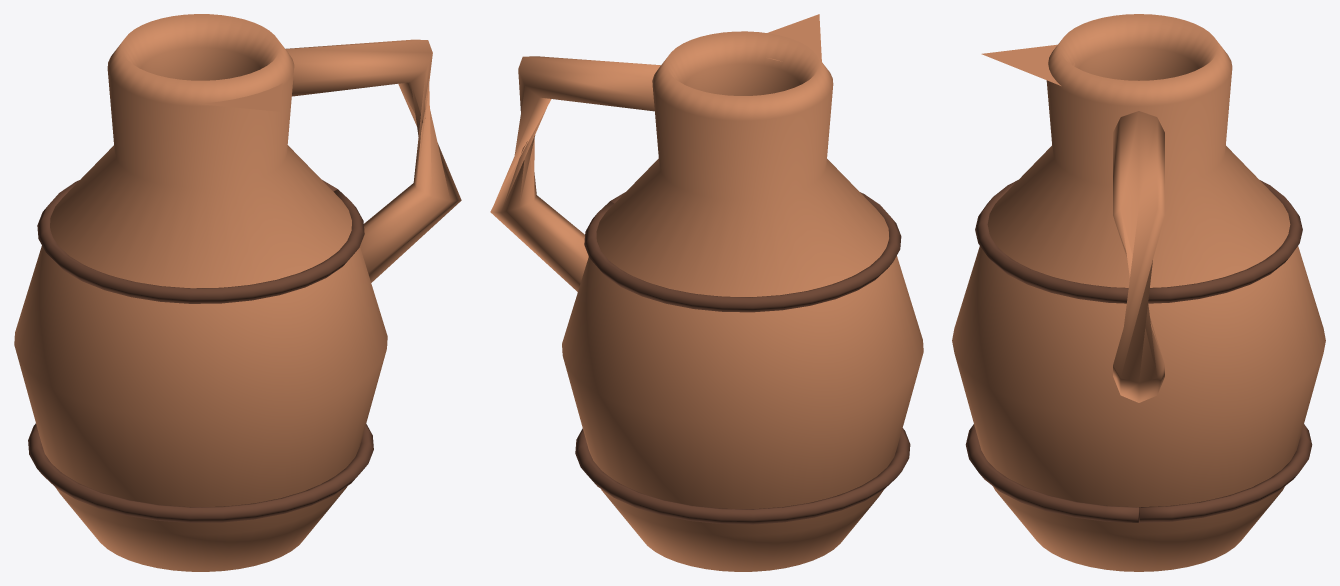
The model's file is pouring-jug.glb.
3 renders of one model, left to right at view 1: azimuth 30°, elevation 25°; view 2: azimuth 150°, elevation 25°; view 3: azimuth 270°, elevation 25°, orthographic. The views are drawn at different scales.
Visible parts, largest first — view 1: pouring-jug__clay, pouring-jug__slip; view 2: pouring-jug__clay, pouring-jug__slip; view 3: pouring-jug__clay, pouring-jug__slip.
Part boxes in pixels (x1=…): pouring-jug__clay: x1=14, y1=14, x2=461, y2=571; pouring-jug__slip: x1=28, y1=180, x2=373, y2=522; pouring-jug__clay: x1=490, y1=14, x2=923, y2=571; pouring-jug__slip: x1=575, y1=192, x2=910, y2=524; pouring-jug__clay: x1=952, y1=14, x2=1325, y2=571; pouring-jug__slip: x1=965, y1=180, x2=1312, y2=522.
Size of the model in its own units: 0.6738 by 0.75 by 0.52.
